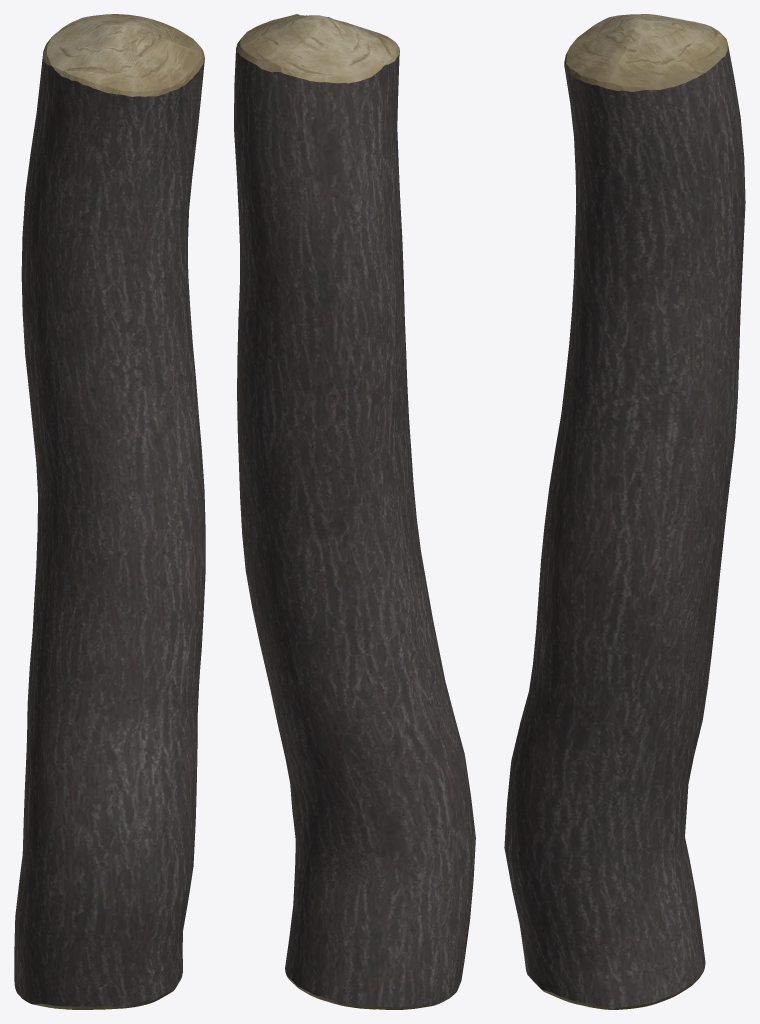
3 renders of one model, left to right at view 1: azimuth 30°, elevation 25°; view 2: azimuth 150°, elevation 25°; view 3: azimuth 270°, elevation 25°, orthographic. The views are drawn at different scales.
Visible parts, largest first — view 1: SM_BM_Oak_Tree_02_half_top_LOD0; view 2: SM_BM_Oak_Tree_02_half_top_LOD0; view 3: SM_BM_Oak_Tree_02_half_top_LOD0.
Part boxes in pixels (left/top/right/bottom): SM_BM_Oak_Tree_02_half_top_LOD0: left=14, top=14, right=205, bottom=1009; SM_BM_Oak_Tree_02_half_top_LOD0: left=234, top=14, right=475, bottom=1009; SM_BM_Oak_Tree_02_half_top_LOD0: left=504, top=14, right=745, bottom=1009.
Bounding box in the file's own units: 1.15 × 5.62 × 1.22.
1 material, 1 textured.
